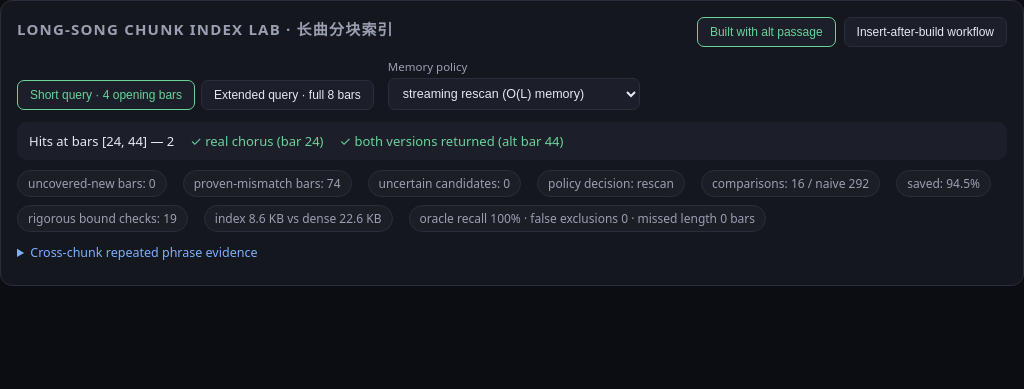
Scenario: index lab › supports runtime insertion: one hit before, two after for the short query
Click the button with test id "lab-mode-workflow" at (925, 32), box [844,17,1007,47]
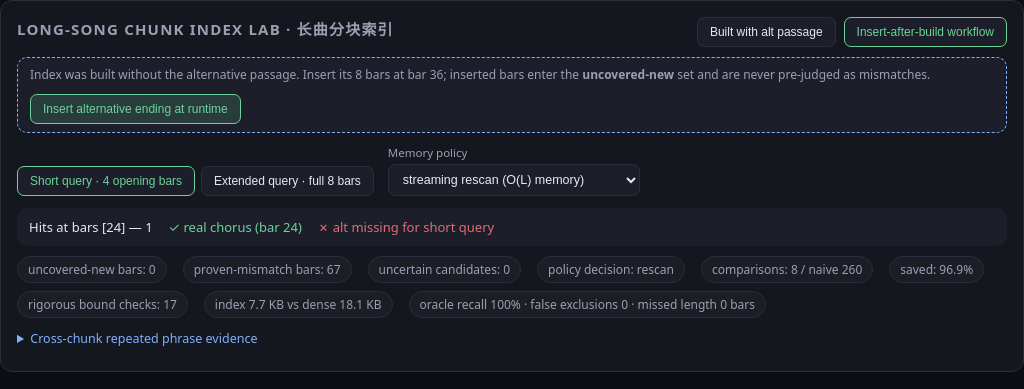
Expected: the text with test id "lab-uncovered" reads "uncovered-new bars: 0", [17,256,167,283]
Result: the text with test id "lab-alt" shows "alt missing" at [318,218,494,236]
Click the button with test id "lab-insert-alt" at (135, 109), box [30,94,241,124]
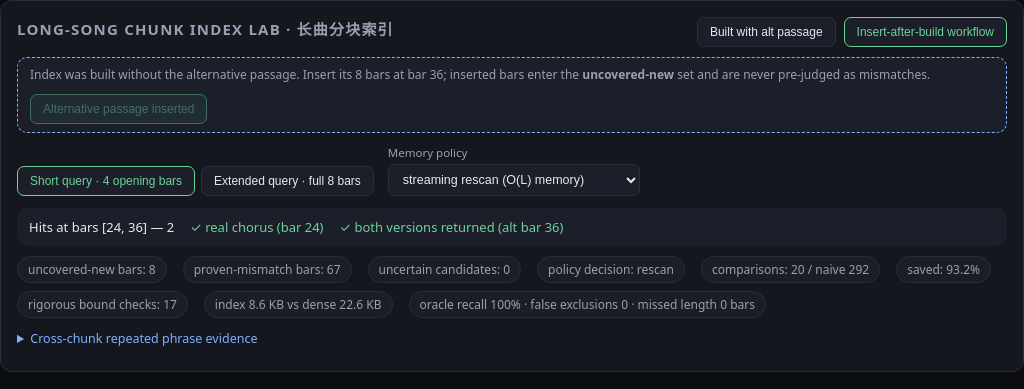
Result: the text with test id "lab-alt" shows "both versions returned" at [340,218,564,236]
Result: the text with test id "lab-uncovered" reads "uncovered-new bars: 8" at [17,256,167,283]
Click the button with test id "lab-query-long" at (288, 181), box [201,166,374,196]
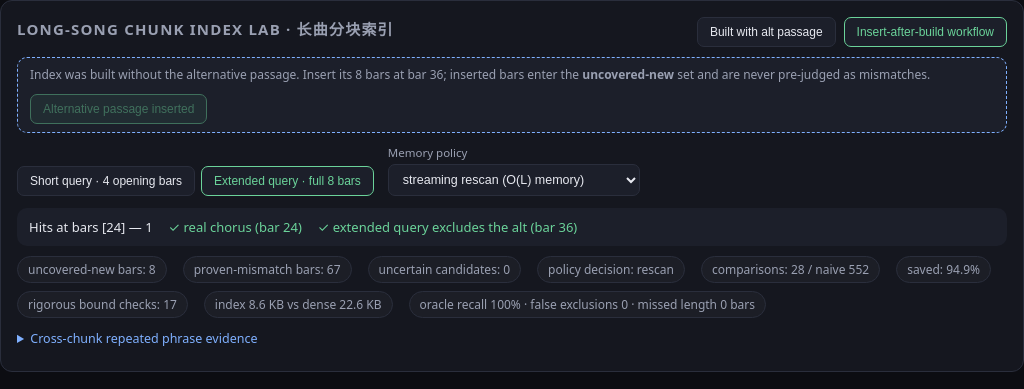
Result: the text with test id "lab-alt" shows "excludes the alt" at [318,218,577,236]
